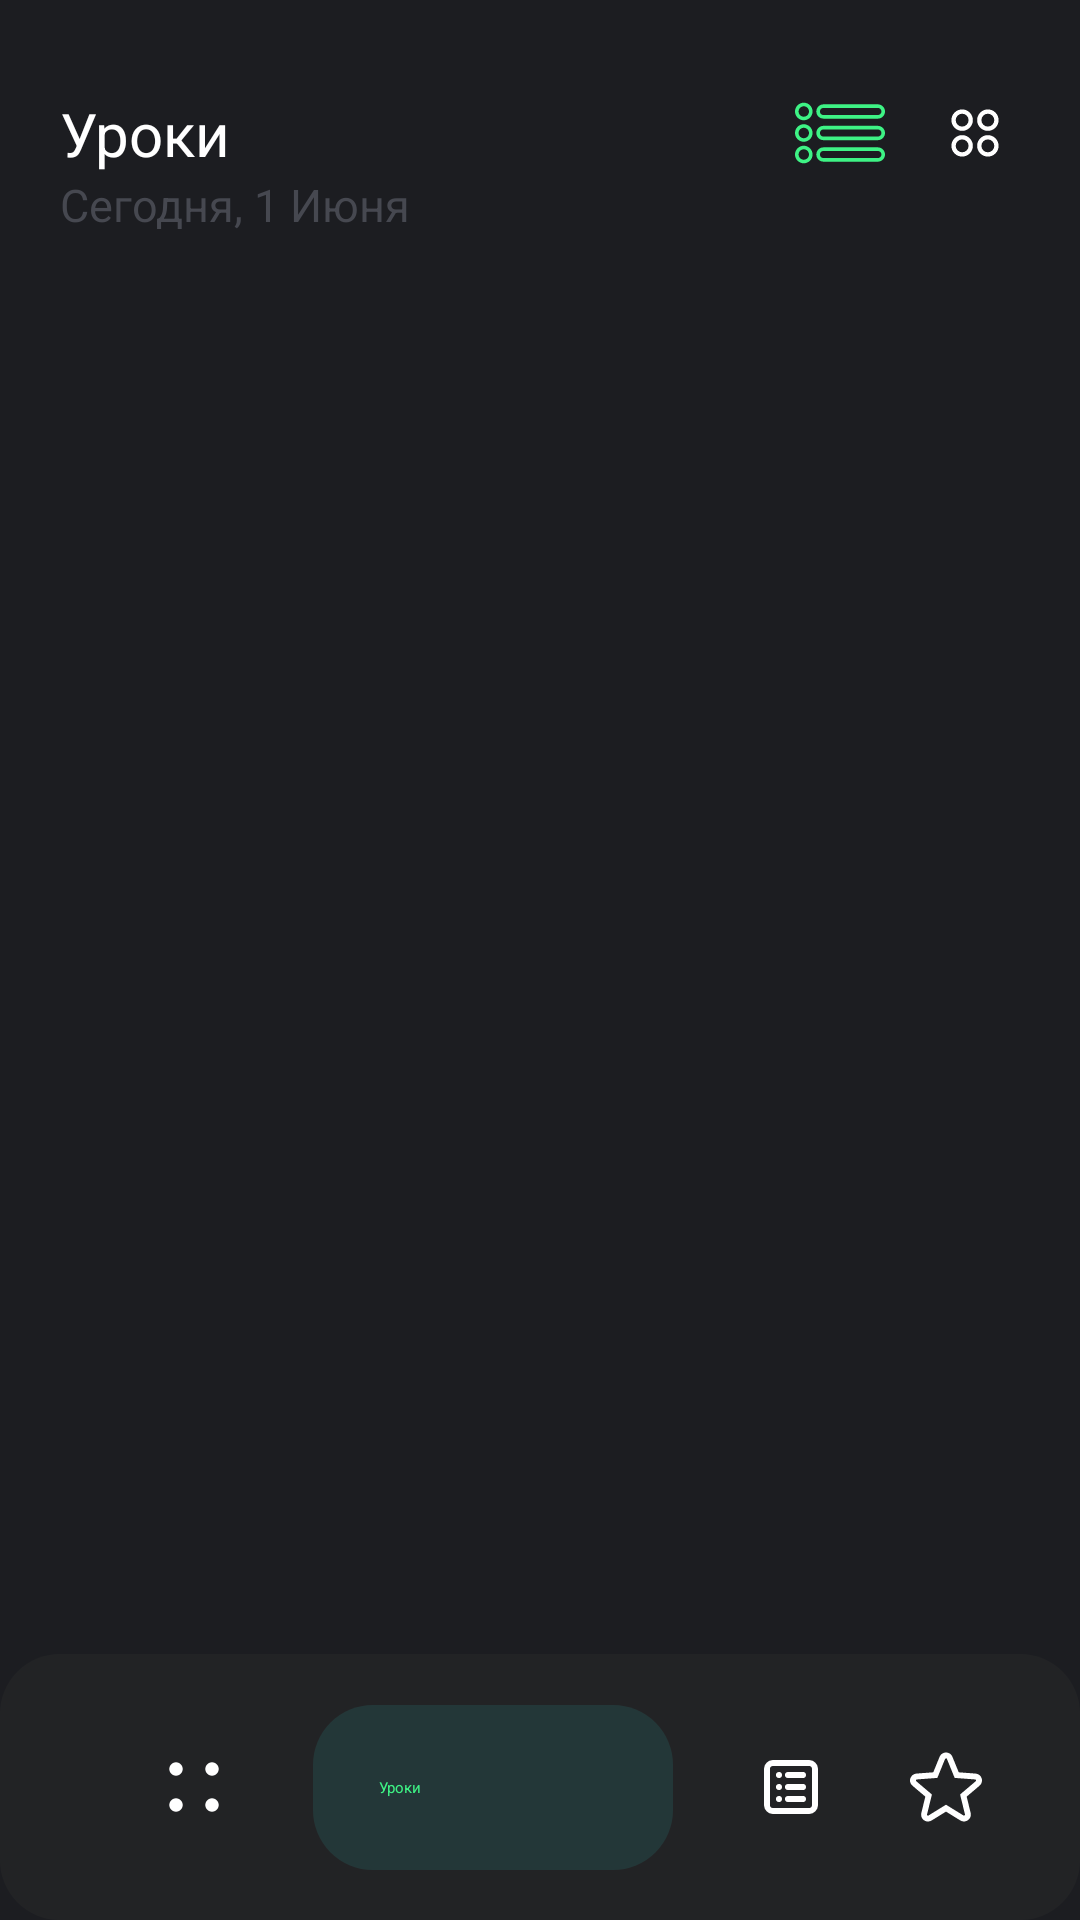

Named icons in this screenshot (1080*1920) and their bounding boxes, Rect(x1, y1, x2, y2):
dice four: Rect(169, 1762, 219, 1812)
four circles: Rect(951, 109, 999, 157)
list: Rect(764, 1760, 818, 1814)
list up: Rect(795, 102, 885, 164)
star: Rect(910, 1752, 982, 1822)
